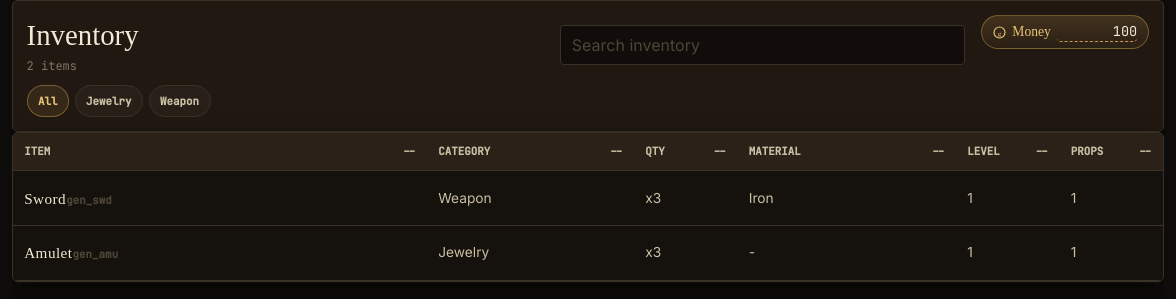
Test: InventoryTable › filters by category chip
The width and height of the screenshot is (1176, 299).
Click the button "Jewelry".
click(109, 101)  # box top-left (74, 85), bottom-right (143, 117)
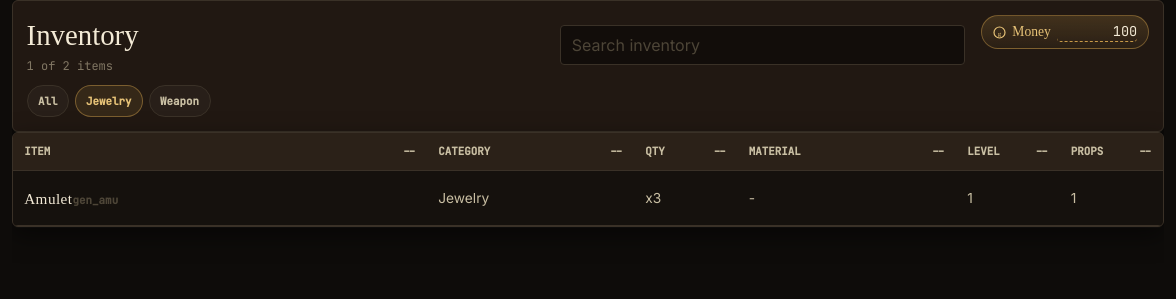
Expected: the text "Amulet" is shown, top-left (24, 190), bottom-right (72, 207)
Expected: the button "Sword" is gone
Expected: the text "1 of 2 items" is shown, top-left (27, 58), bottom-right (113, 74)
